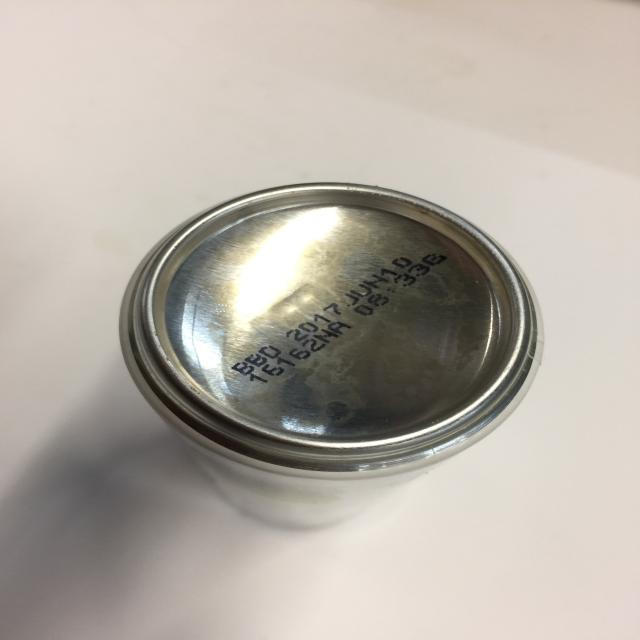Metal: (104, 168, 575, 551)
